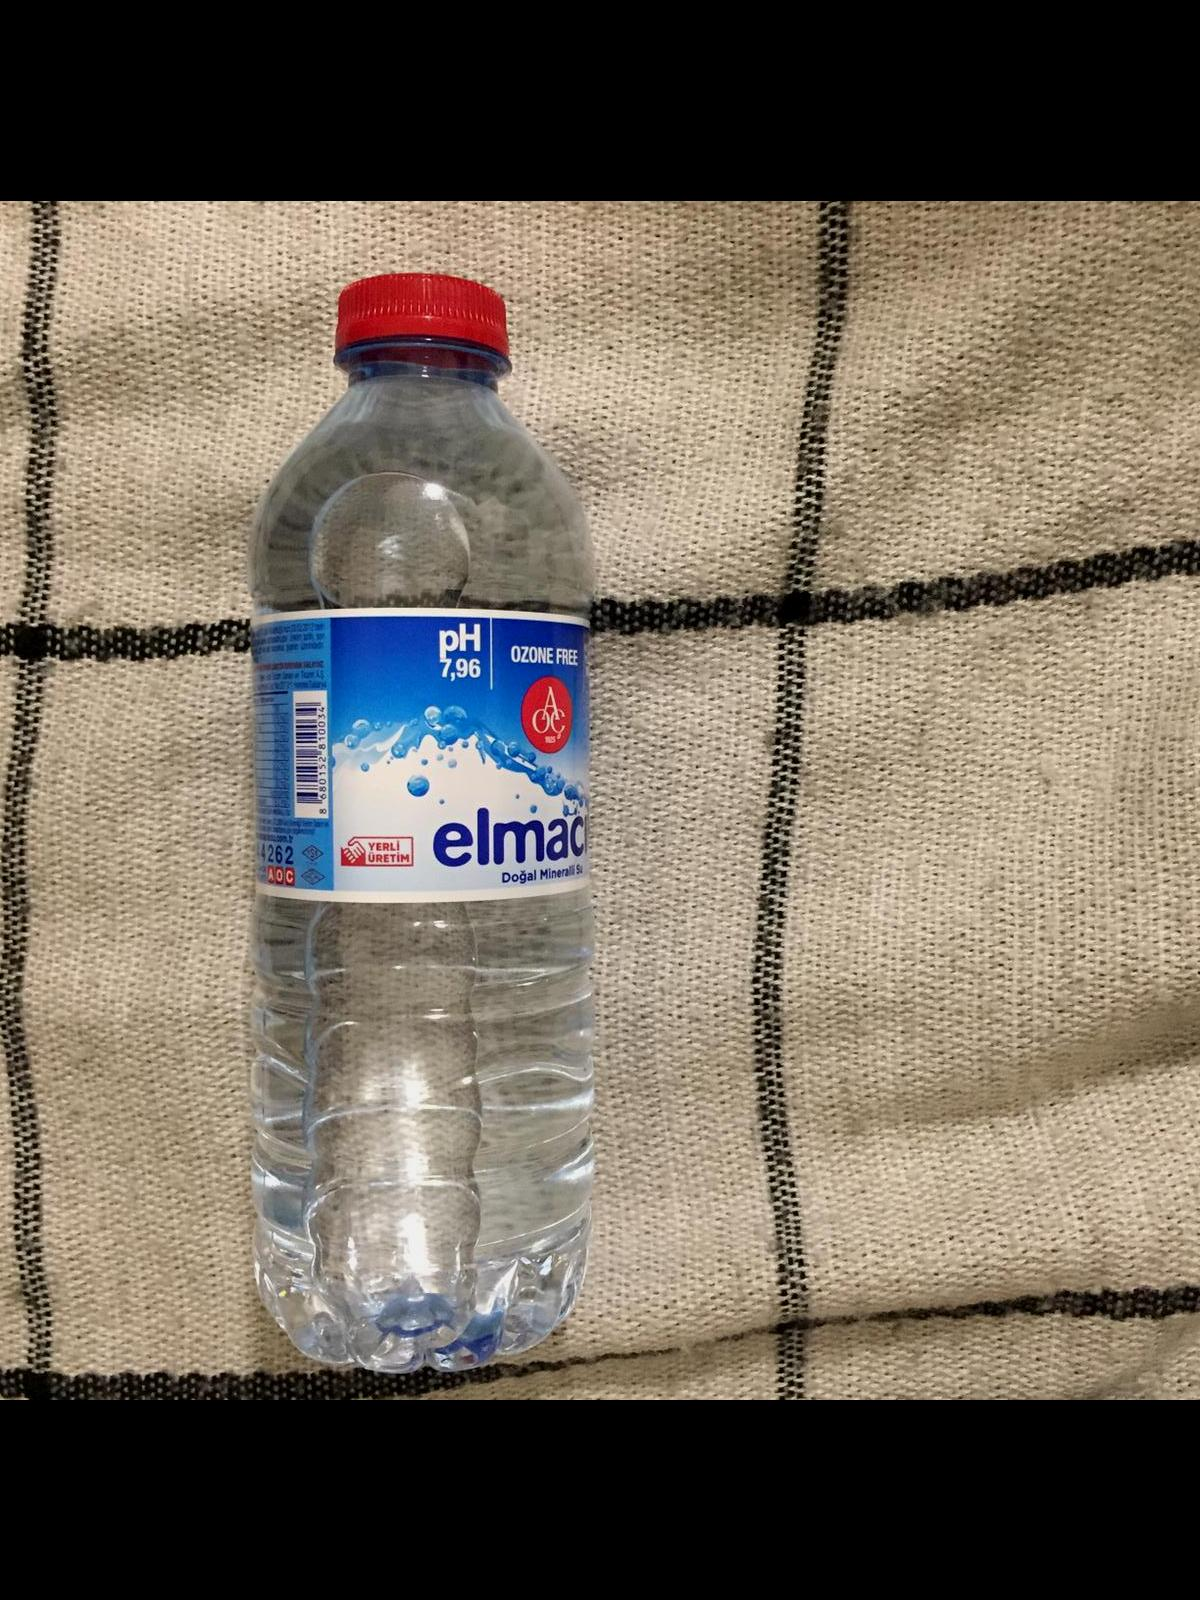bottle: (255, 262, 601, 1366)
